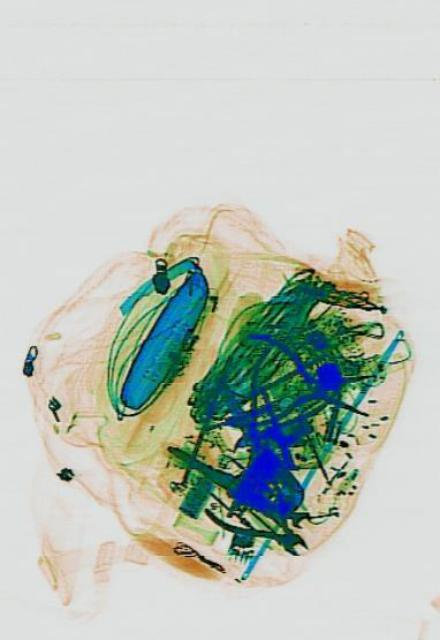Pliers: (166, 368, 316, 546), (200, 432, 324, 594), (235, 330, 376, 440)
Wrench: (264, 483, 307, 529)
